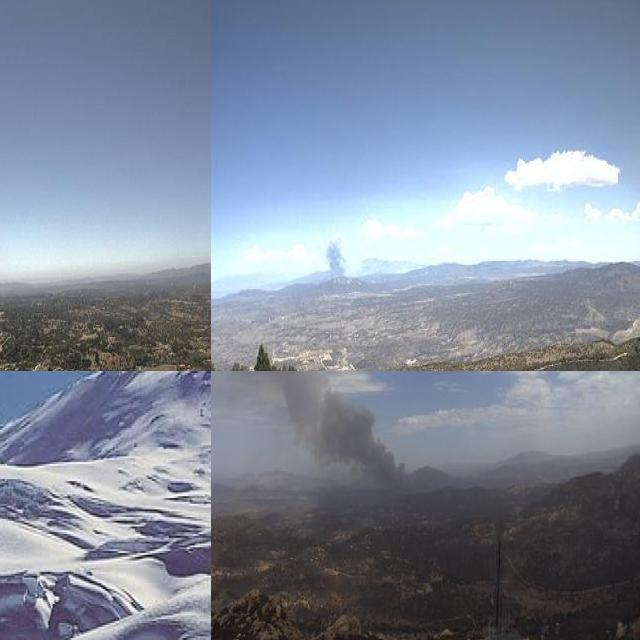smoke: (211, 371, 428, 506), (320, 235, 350, 282)
